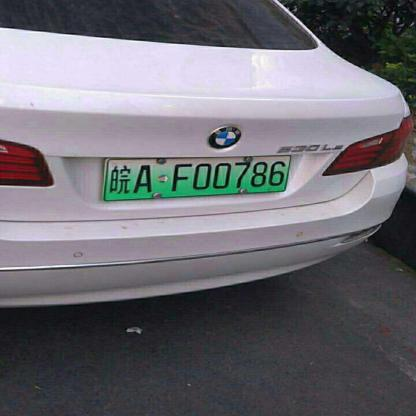lp: (107, 154, 289, 204)
